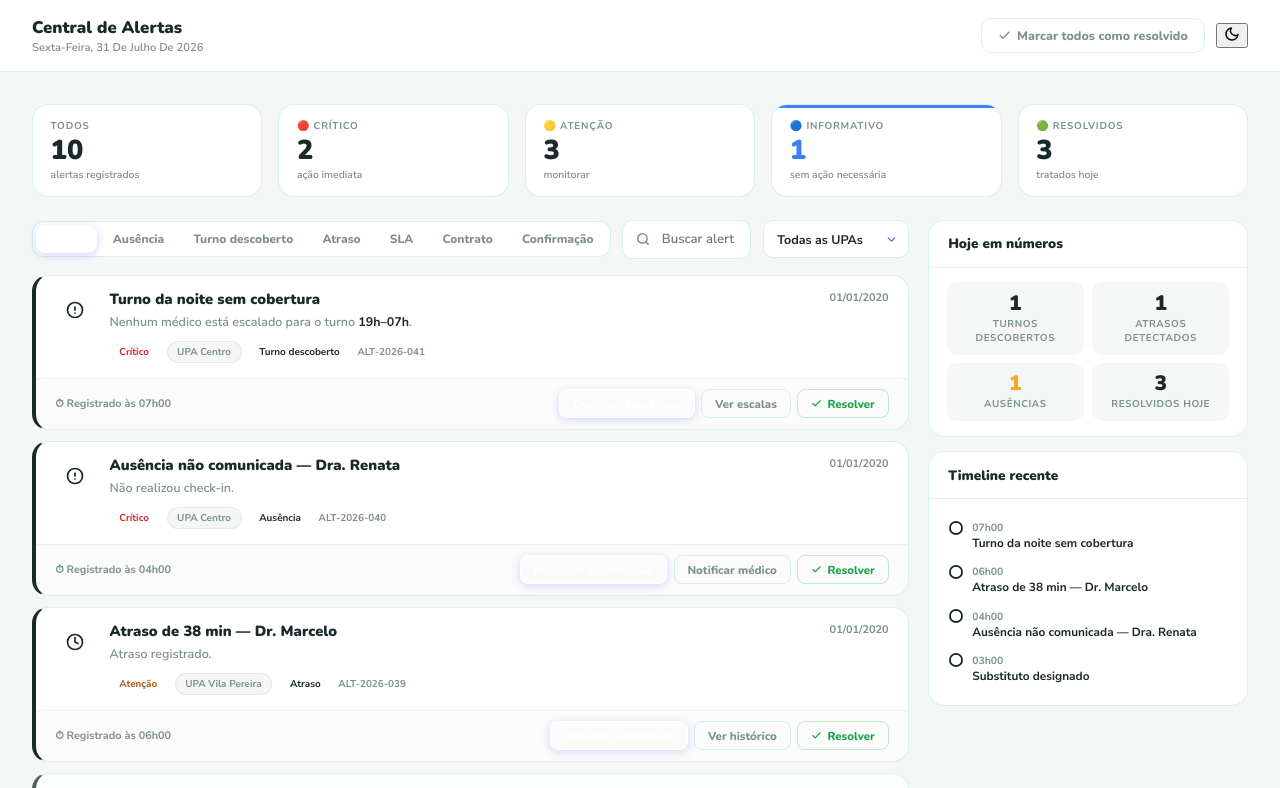
Scenario: <AdminAlertas /> › filtra por KPI de resolvidos
Check: the element with class "alt-list" shows "Turno da noite sem cobertura", box [110,289,320,309]
Click the element with class "resolvido" showing "🟢 Resolvidos 3 tratados hoje" at (1133, 151), box [1018,104,1248,197]
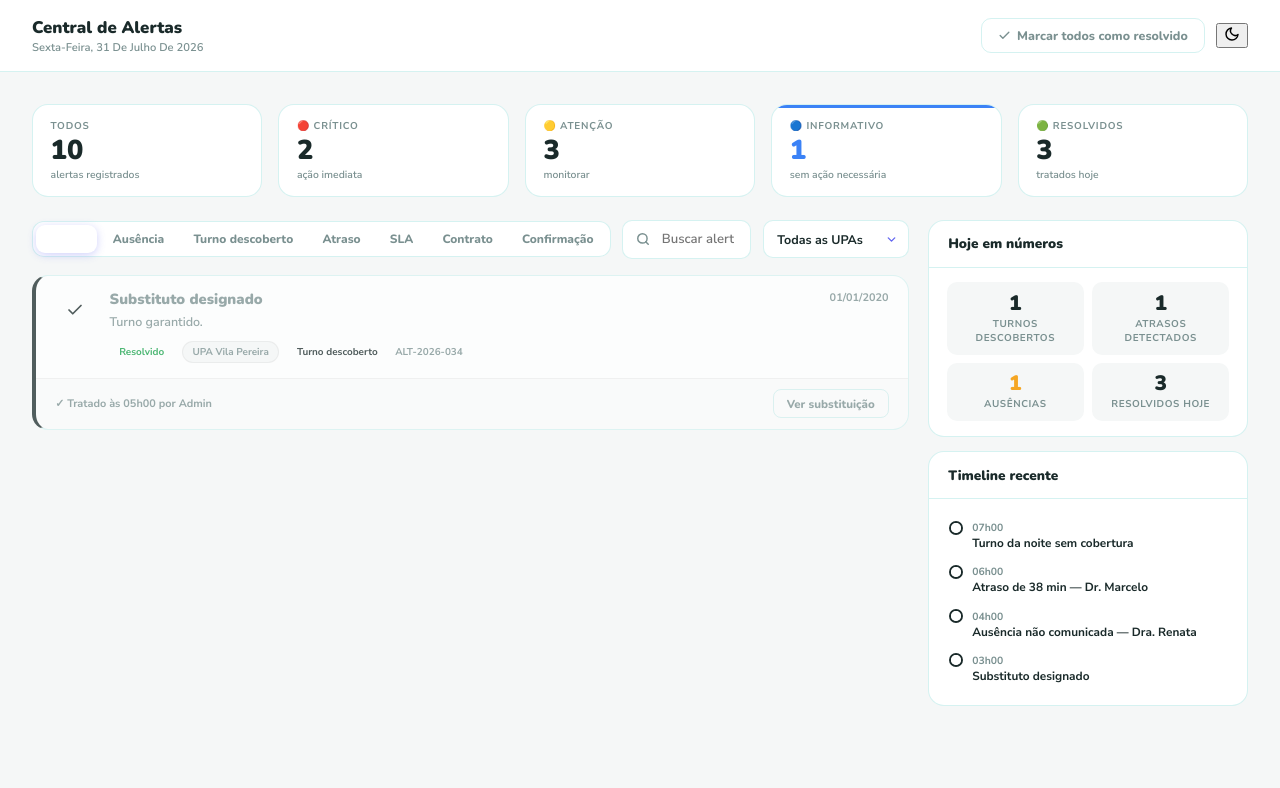
Check: the element with class "alt-list" shows "Substituto designado", box [110,289,263,309]
Check: the element with class "alt-list" no longer shows "Turno da noite sem cobertura"
